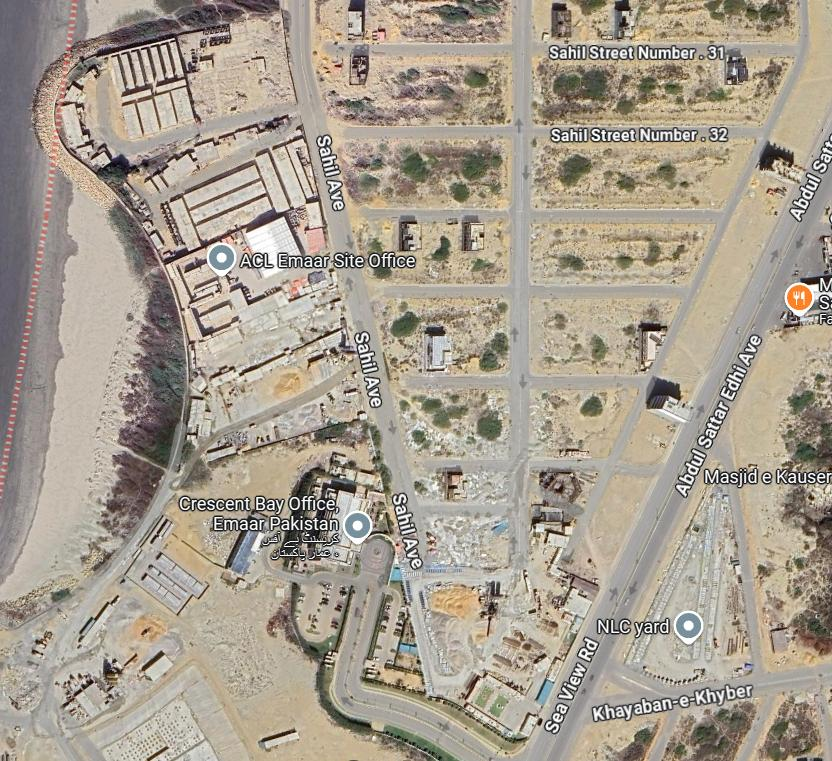Buildings: (8, 389, 441, 761), (120, 118, 355, 442), (367, 472, 595, 745), (621, 459, 749, 686), (412, 474, 532, 673), (100, 14, 296, 135), (534, 57, 787, 123), (532, 140, 755, 208), (310, 52, 513, 123), (327, 143, 508, 214), (529, 220, 713, 284), (528, 300, 675, 375), (374, 300, 507, 376), (355, 227, 505, 287), (394, 391, 508, 457), (539, 392, 636, 461)
